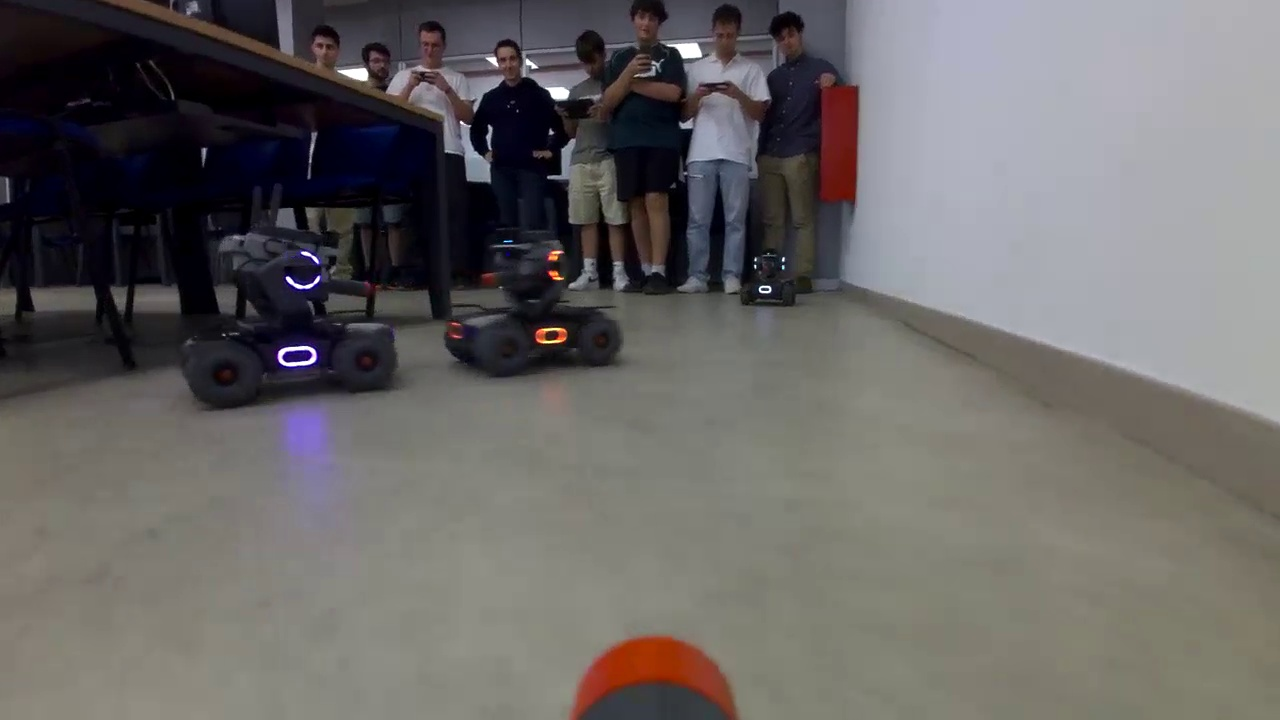robot: (178, 237, 403, 397), (438, 245, 633, 377), (740, 250, 796, 304)
